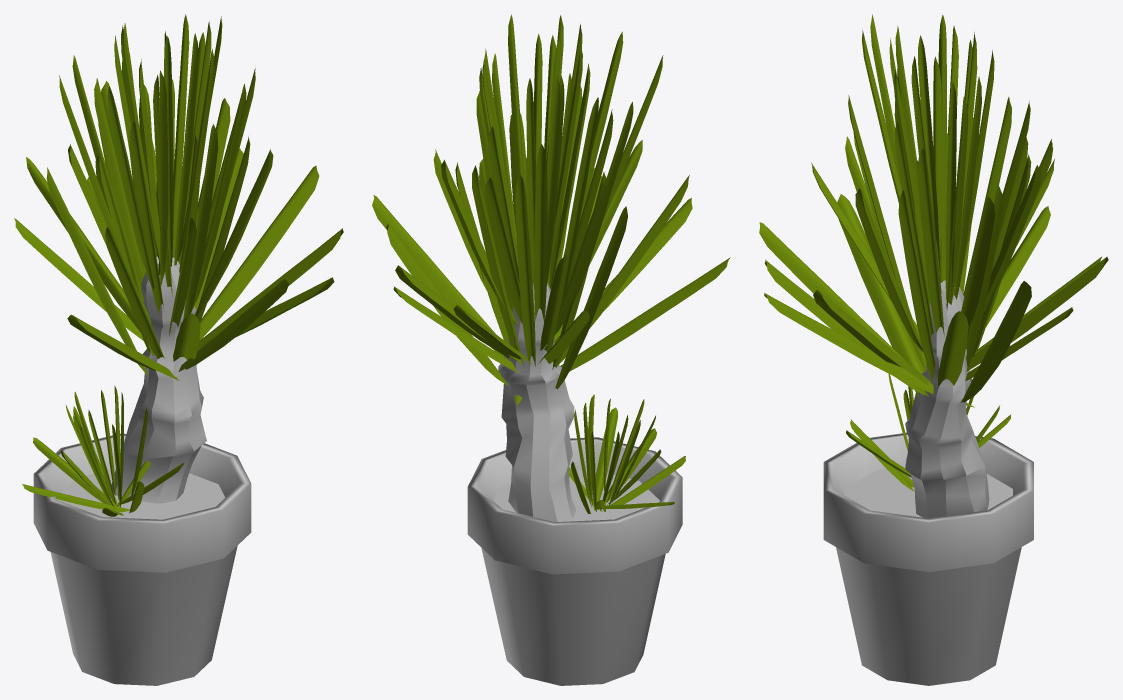
File: PotPlantdesertBush.fbx
3 views of the same model, side by side, from view 1: azimuth 30°, elevation 25°; view 2: azimuth 150°, elevation 25°; view 3: azimuth 270°, elevation 25° (orthographic). The views are drawn at different scales.
Parts seen in each view (by area): view 1: bifgChaos1, pCylinder1, pCylinder10, smallChaos, pCylinder17; view 2: bifgChaos1, pCylinder1, pCylinder10, smallChaos, pCylinder17; view 3: bifgChaos1, pCylinder1, pCylinder10, pCylinder17, smallChaos.
Part boxes in pixels (x1,y1,x2,y2): bifgChaos1: [14, 14, 343, 380]; pCylinder1: [33, 433, 251, 685]; pCylinder10: [111, 256, 206, 503]; smallChaos: [22, 385, 184, 516]; pCylinder17: [56, 468, 225, 519]; bifgChaos1: [372, 14, 730, 405]; pCylinder1: [467, 437, 682, 685]; pCylinder10: [498, 282, 576, 521]; smallChaos: [568, 394, 685, 514]; pCylinder17: [493, 470, 659, 521]; bifgChaos1: [759, 14, 1108, 416]; pCylinder1: [823, 432, 1033, 685]; pCylinder10: [905, 280, 989, 518]; pCylinder17: [844, 466, 1012, 517]; smallChaos: [846, 374, 1010, 490].
Size of the model in its own units: 65.22 by 129 by 64.42.
